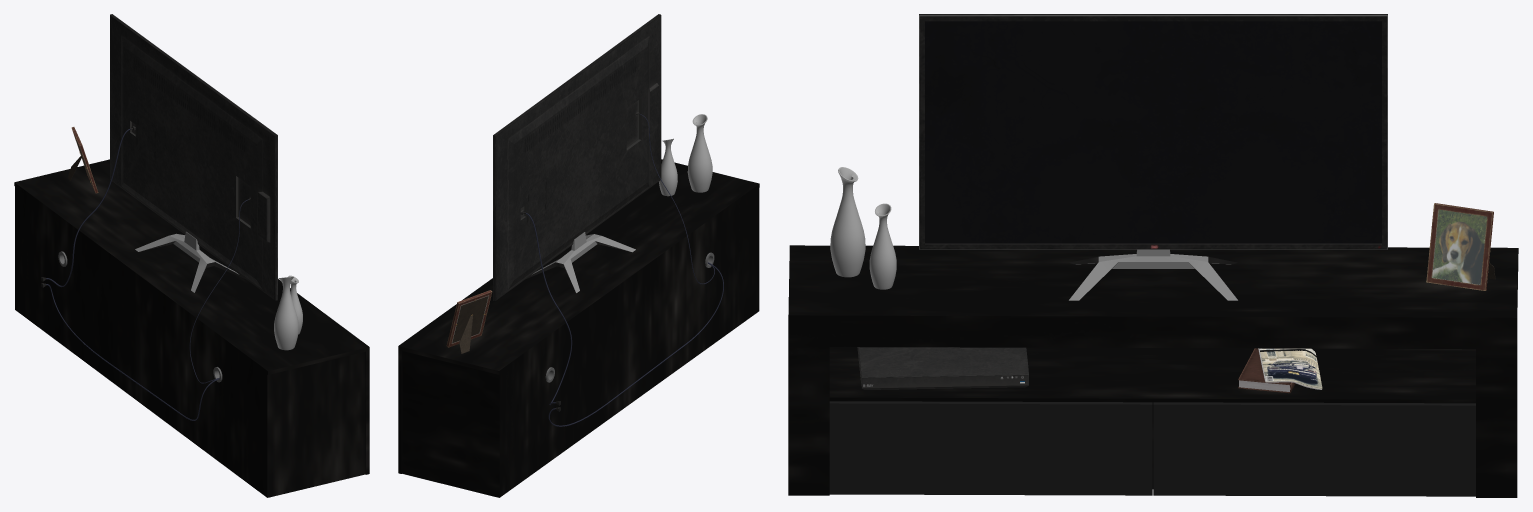
The model's file is entertainment.glb.
3 views of the same model, side by side, from view 1: azimuth 30°, elevation 25°; view 2: azimuth 150°, elevation 25°; view 3: azimuth 270°, elevation 25° (orthographic). The views are drawn at different scales.
Parts seen in each view (by area): view 1: Cube.003, Cube.000; view 2: Cube.003, Cube.000; view 3: Cube.003.
Part boxes in pixels (box(x1,y1,x2,y2)): Cube.003: box(14, 14, 369, 497); Cube.000: box(46, 129, 248, 420); Cube.003: box(398, 14, 759, 497); Cube.000: box(526, 114, 723, 426); Cube.003: box(788, 14, 1518, 497).
Bounding box in the file's own units: 199 × 498 × 735.
Materials: 4 (4 with a texture image).
